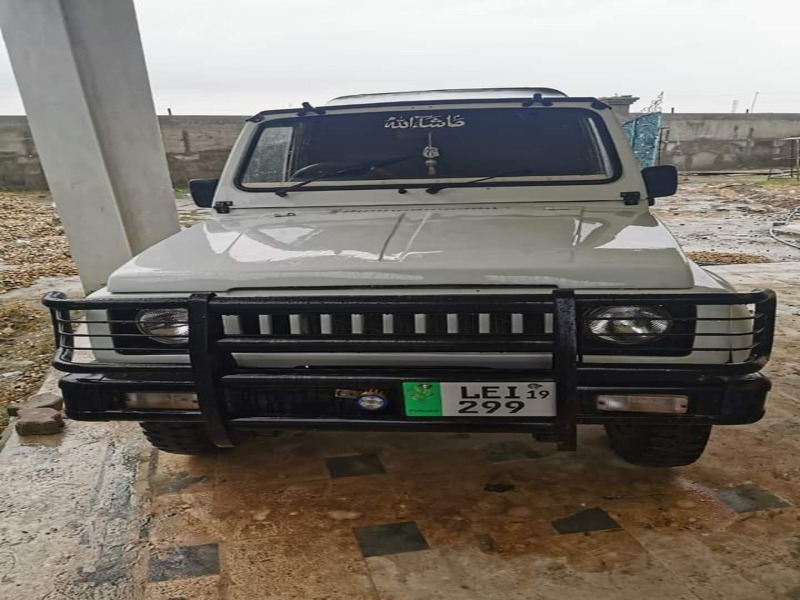License Plate: (402, 379, 564, 423)
